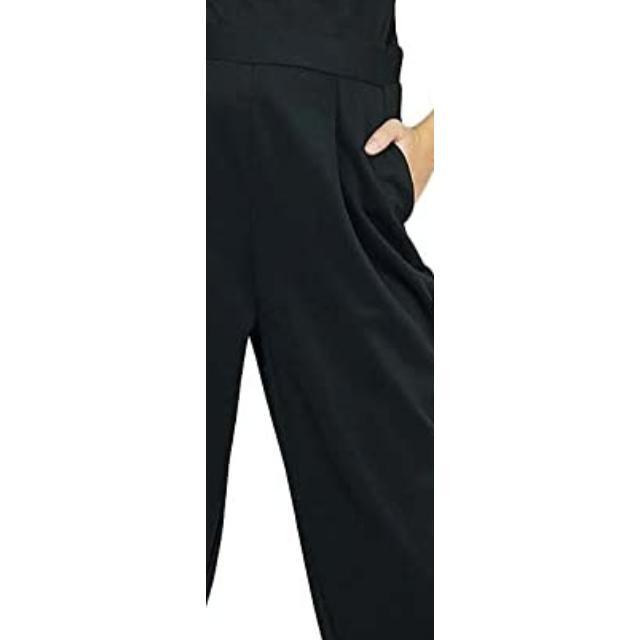polyester: (205, 0, 408, 332)
